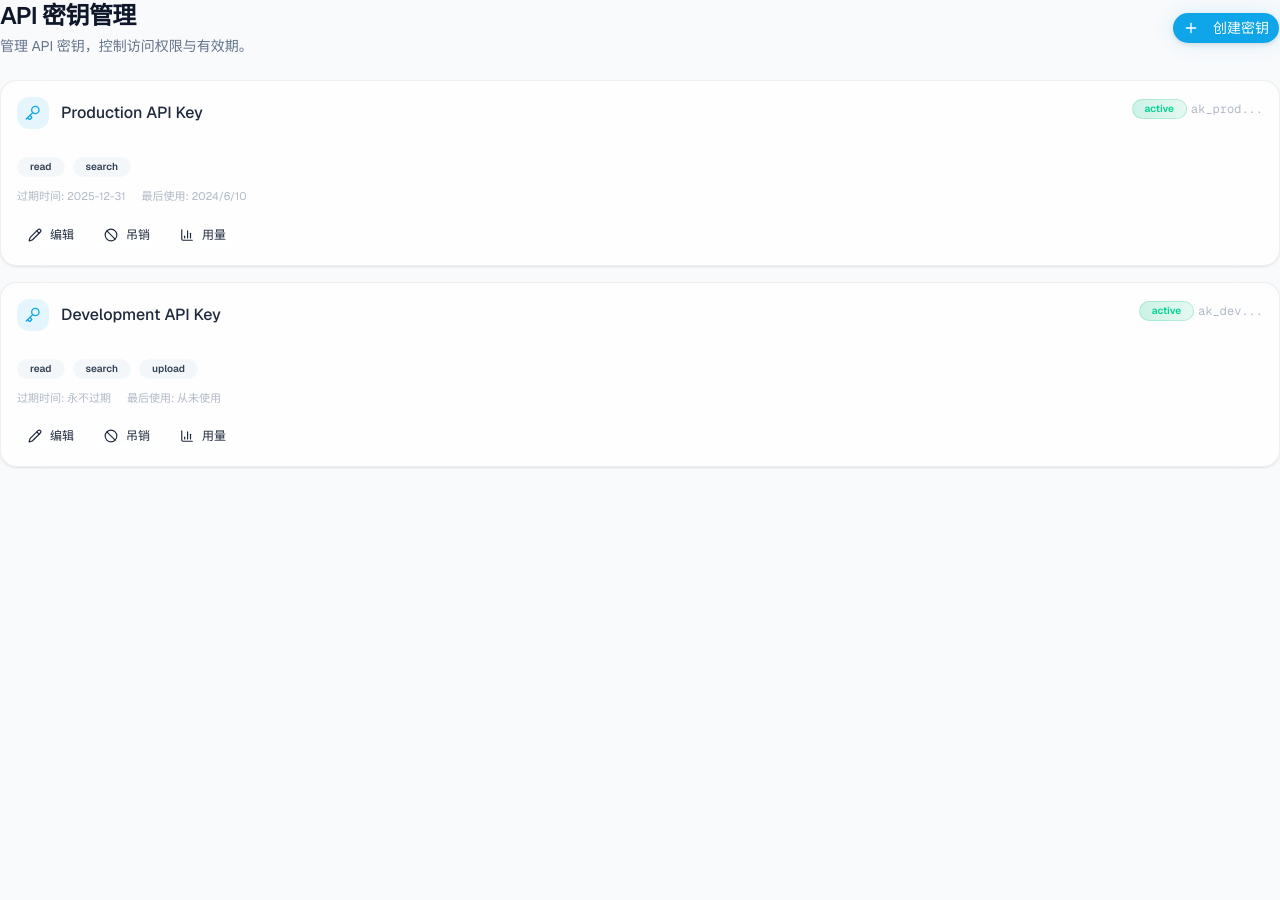
Test case: ApiKeysPage › API Keys Page - Create › clicking 创建密钥 opens create modal
This screenshot has width=1280, height=900.
Expected: the text "Production API Key" is shown, [61,101,203,125]
Click the button "创建密钥": (1226, 28) [1172,12,1279,44]
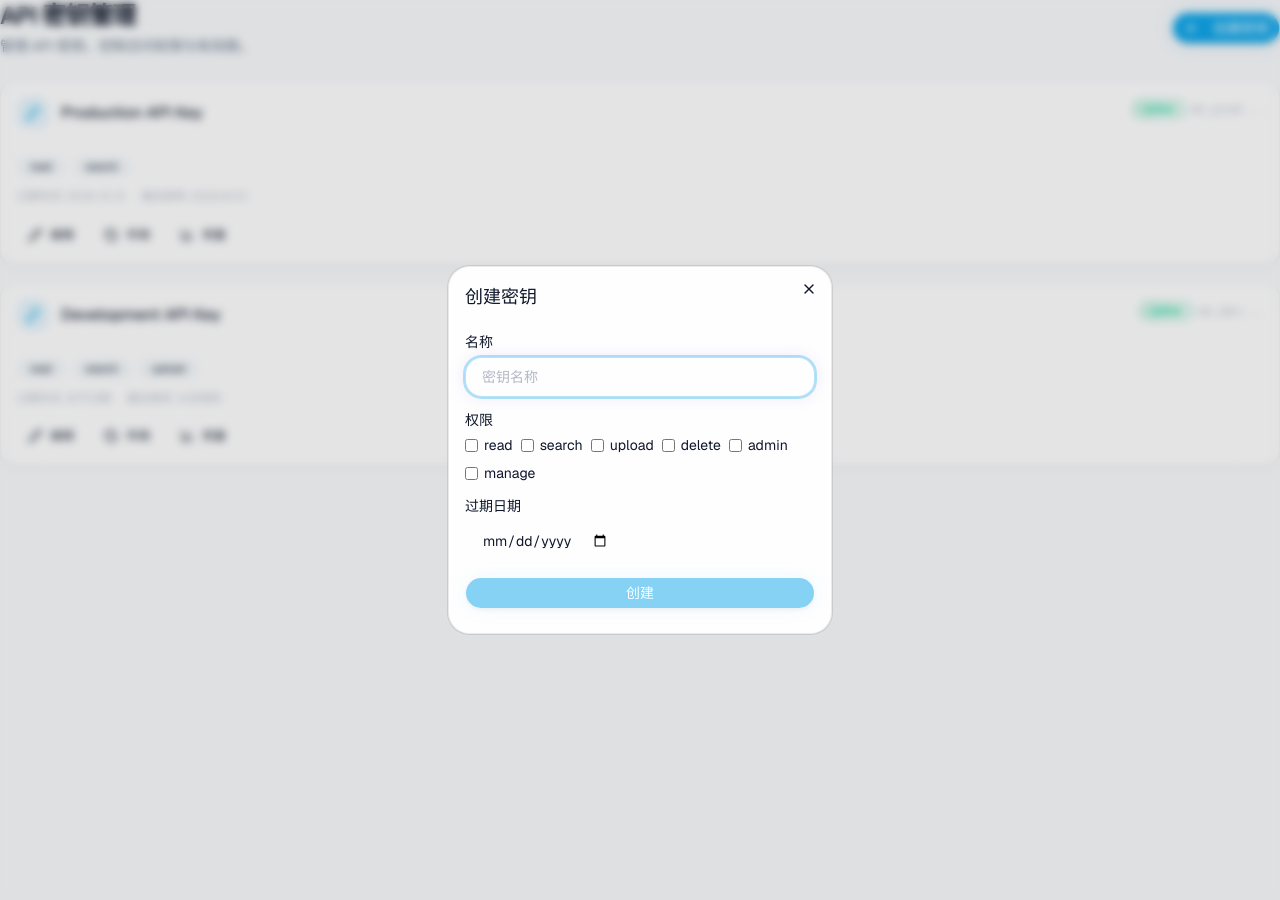
Result: the dialog with test id "create-api-key-dialog" is shown at [448,266,832,634]
